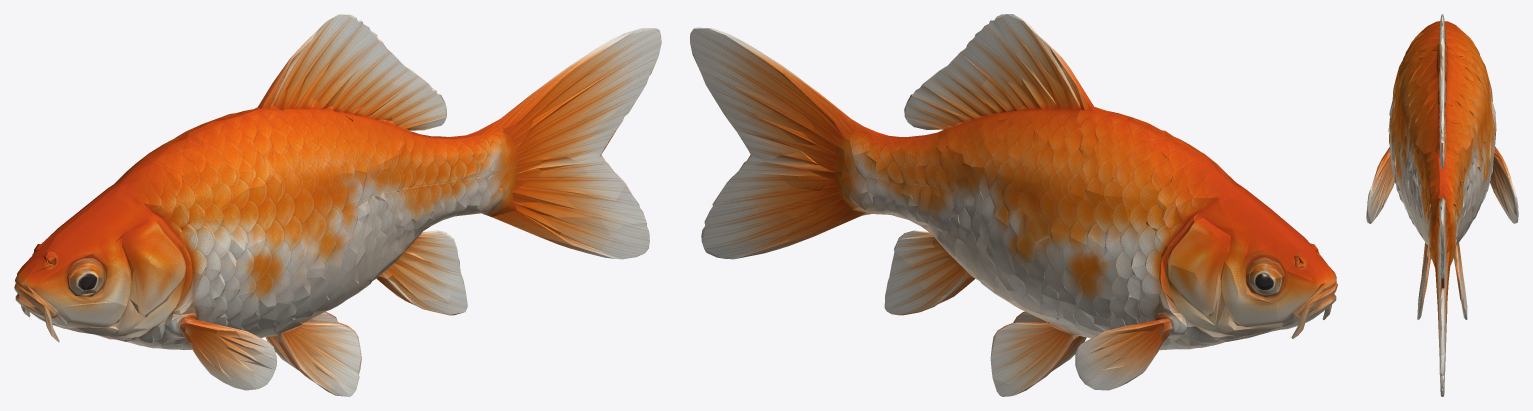
The model's file is fishCrucian.glb.
3 views of the same model, side by side, from view 1: azimuth 30°, elevation 25°; view 2: azimuth 150°, elevation 25°; view 3: azimuth 270°, elevation 25° (orthographic). The views are drawn at different scales.
Visible parts, largest first — view 1: Mesh_0; view 2: Mesh_0; view 3: Mesh_0.
Part boxes in pixels (x1,y1,x2,y2): Mesh_0: [14, 14, 661, 396]; Mesh_0: [690, 14, 1337, 396]; Mesh_0: [1366, 14, 1518, 396].
Size of the model in its own units: 0.3275 by 0.18 by 0.0813.
1 material, 1 textured.
